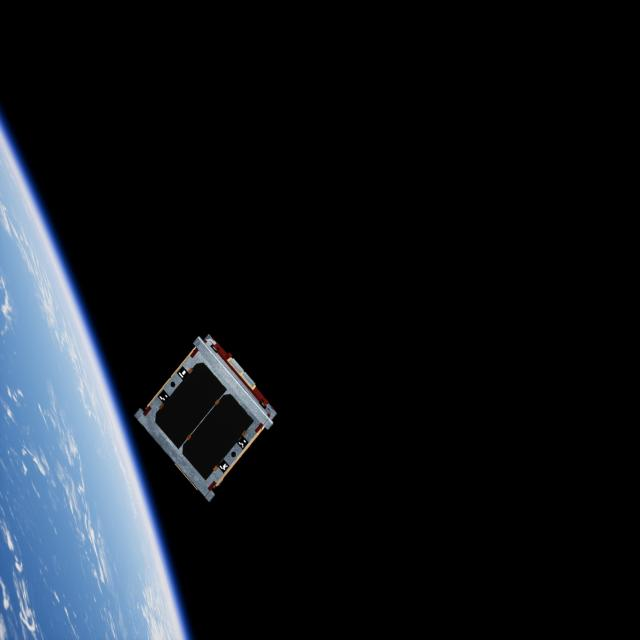medium_debris: (132, 334, 294, 503)
